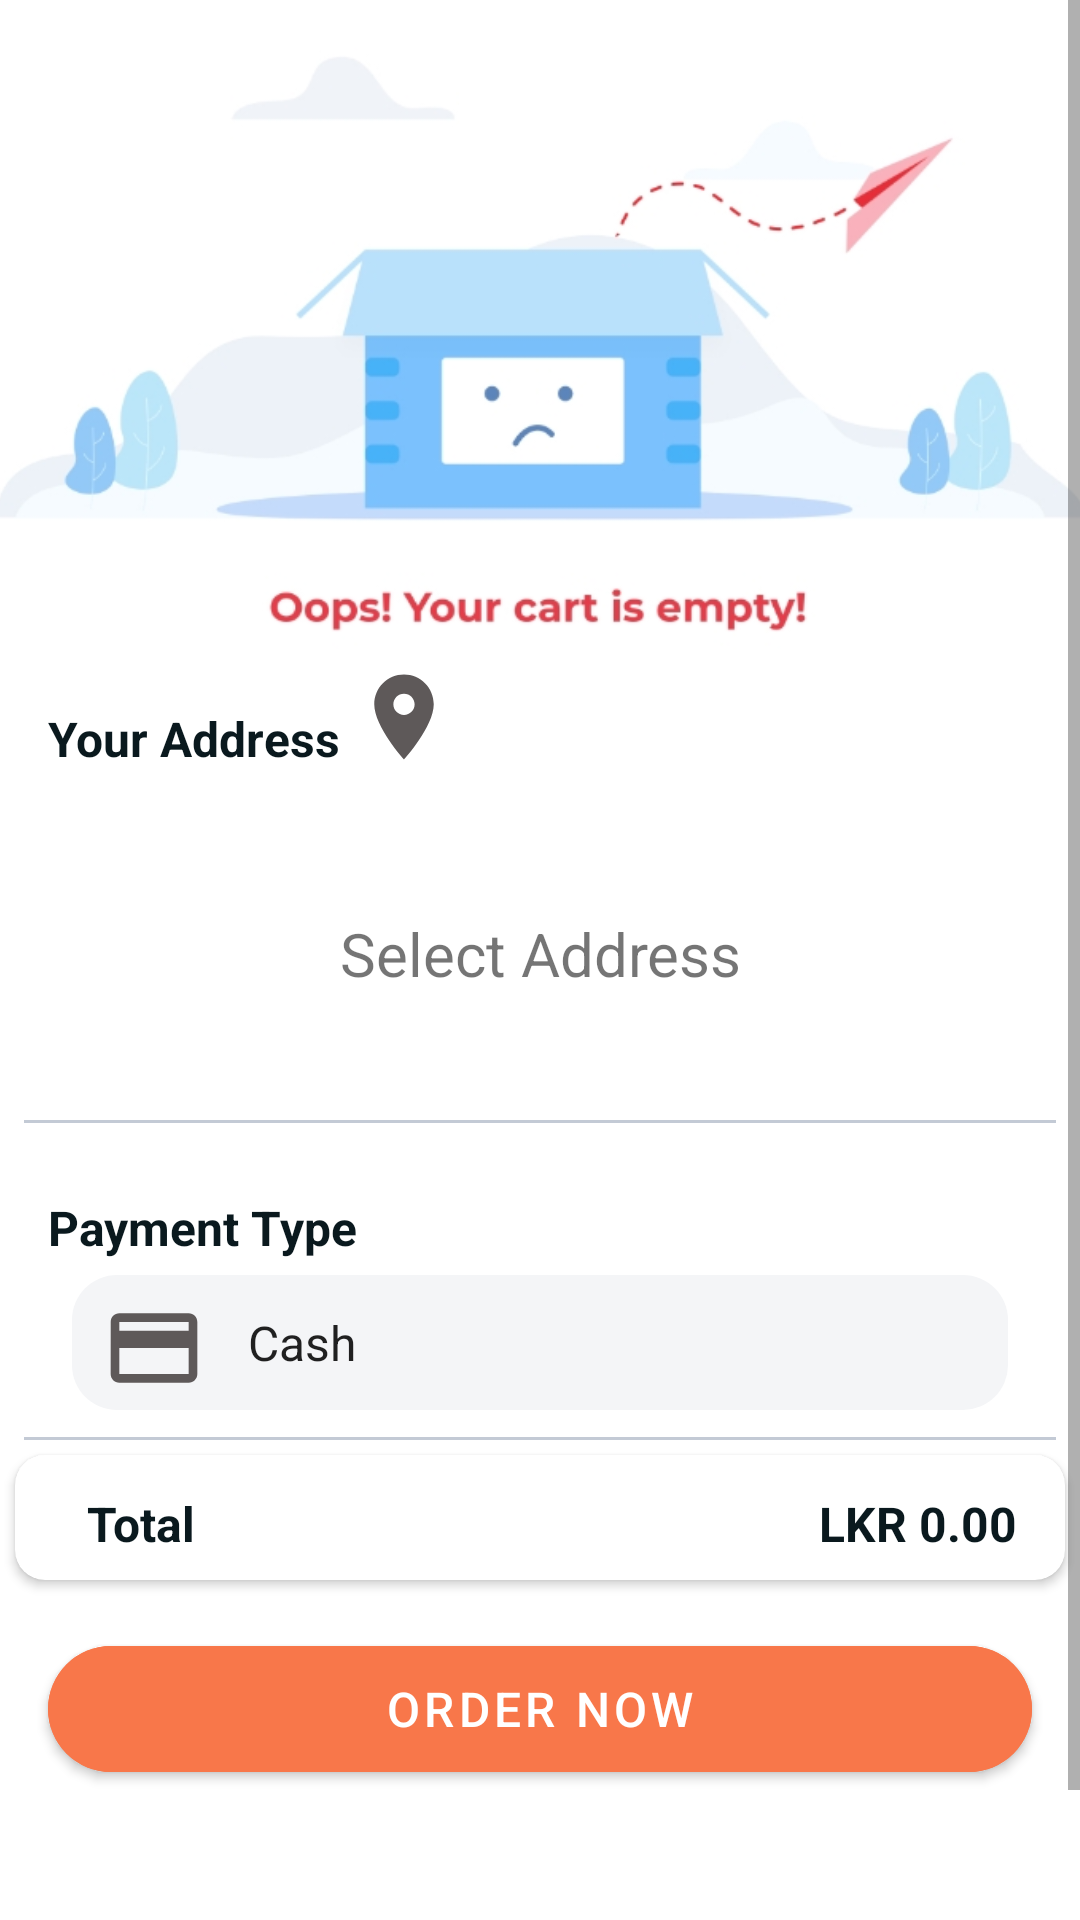

Named icons in this screenshot (1080 × 1920) and their centers, (x=x, y=y):
location on: (x=404, y=716)
